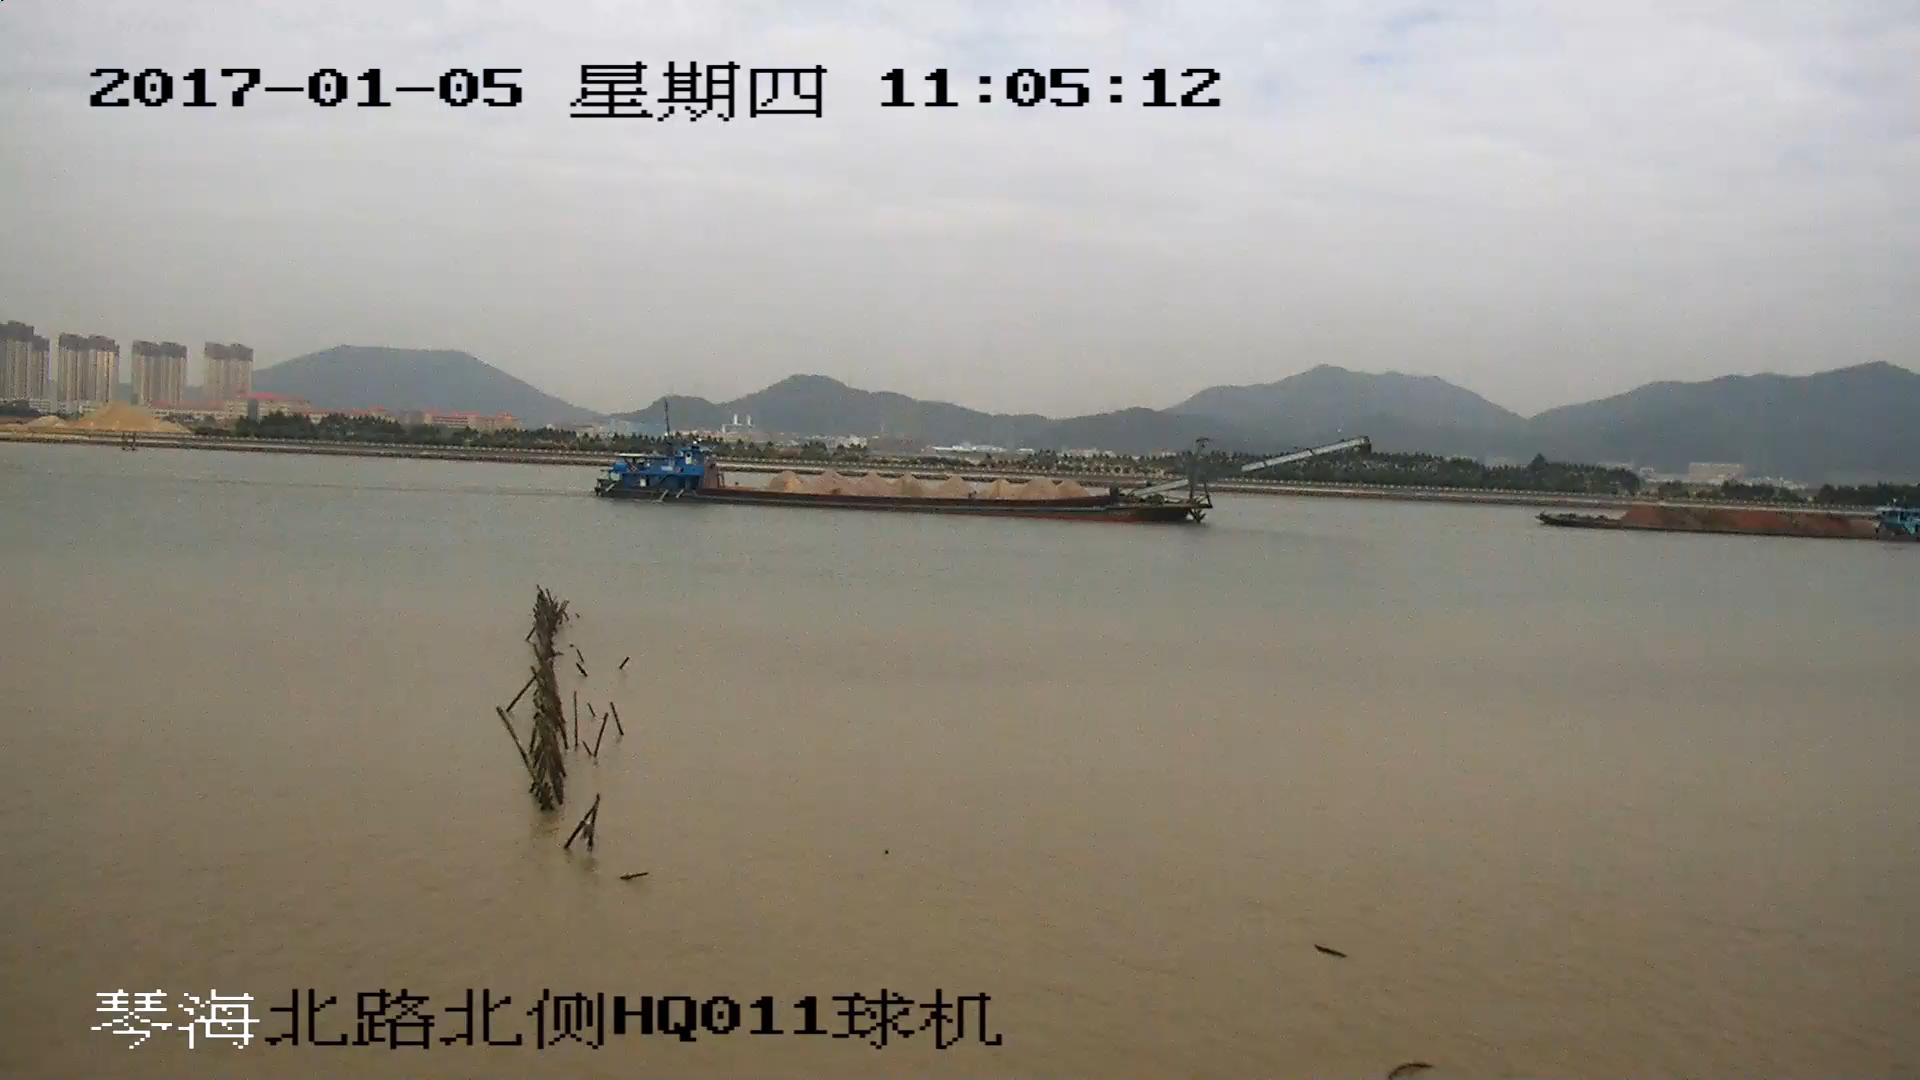ore carrier: (600, 432, 1370, 526), (1544, 500, 1920, 542)
